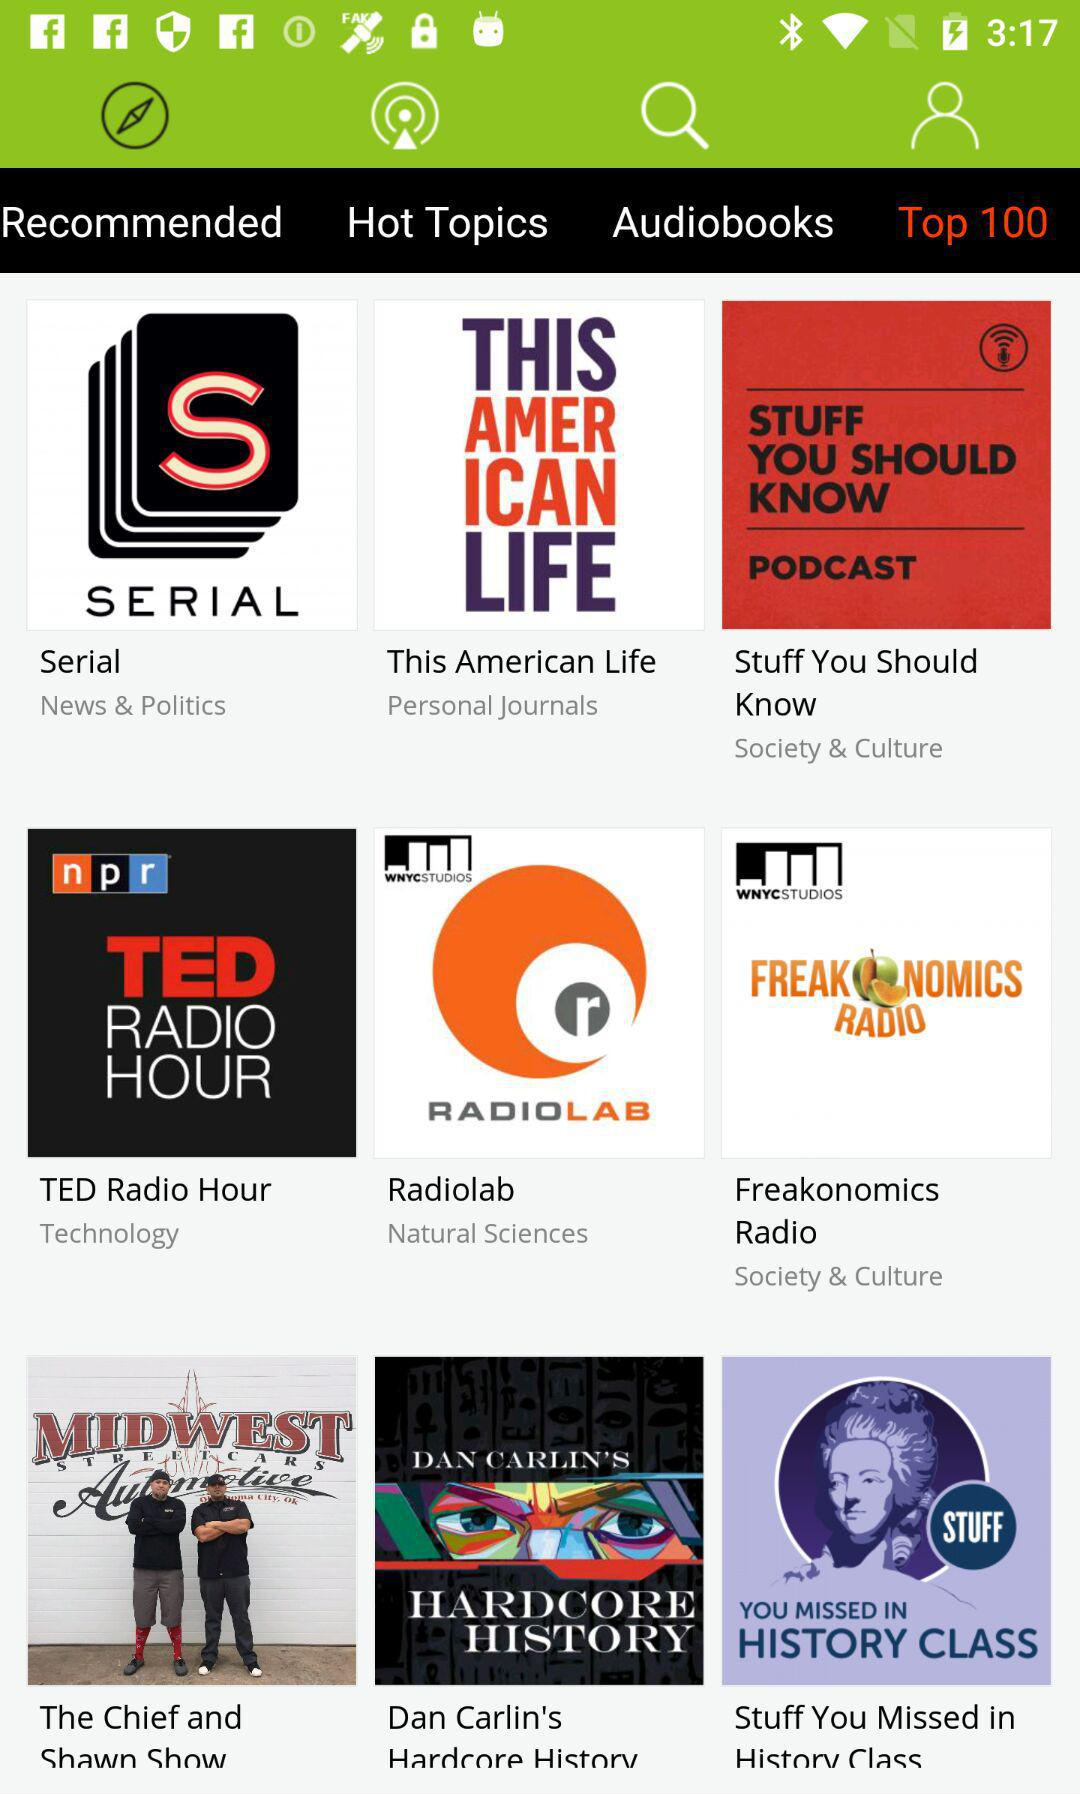Icon: (641, 81, 711, 152), (910, 82, 980, 151), (101, 82, 170, 152)
Image: (373, 827, 706, 1160), (27, 299, 359, 632), (721, 828, 1053, 1160), (28, 1354, 359, 1686), (723, 1354, 1052, 1686), (374, 300, 706, 629), (375, 1356, 705, 1686), (27, 829, 357, 1158), (721, 302, 1051, 630), (370, 81, 441, 152)
Text: (735, 1703, 1015, 1768), (735, 648, 978, 718), (389, 1704, 639, 1768), (735, 1175, 939, 1246), (41, 1703, 243, 1768), (3, 206, 282, 240), (612, 204, 834, 240), (350, 208, 548, 247), (387, 648, 657, 675), (40, 1176, 274, 1203), (897, 206, 1047, 247), (735, 1265, 943, 1293), (389, 695, 600, 721), (734, 738, 943, 765), (389, 1222, 589, 1244), (42, 695, 227, 718), (40, 1222, 181, 1249), (389, 1176, 515, 1203), (41, 648, 120, 675)
UpperTaskBar: (1, 1, 1080, 64)
